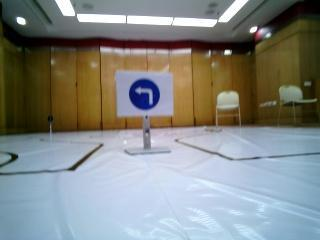left: (112, 68, 177, 116)
